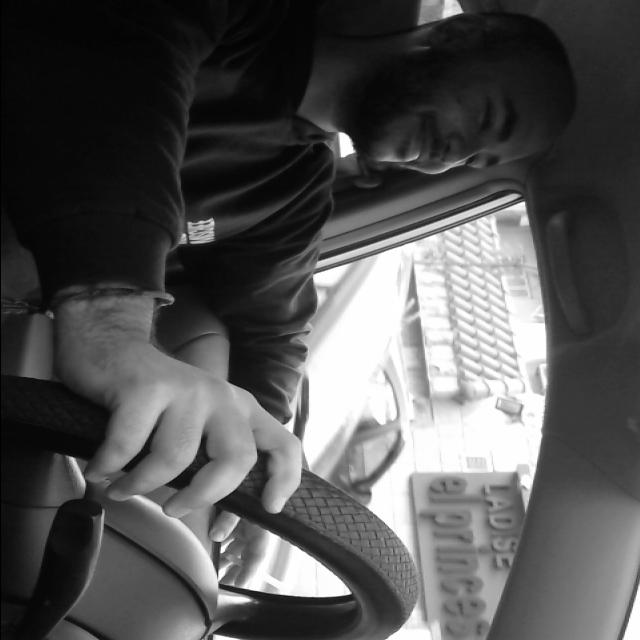smoking: (210, 550, 294, 594)
